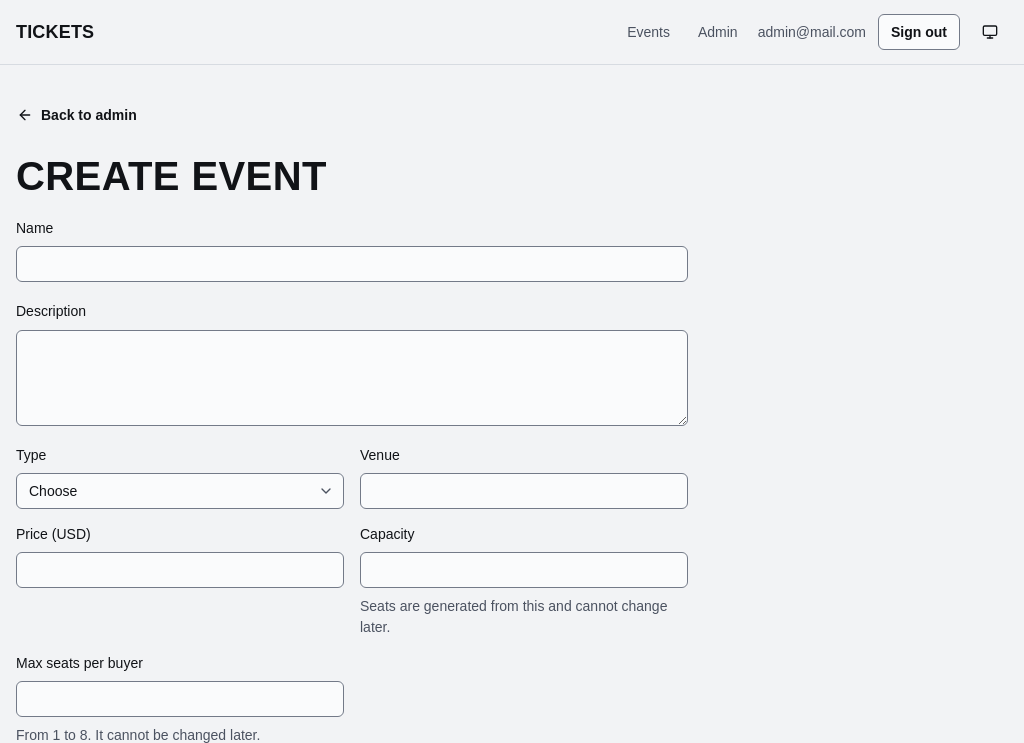
Scenario: CreateEventPage › requires the max seats per buyer
This screenshot has width=1024, height=743.
In the field labelled "Capacity": (524, 570) [360,552,688,588], type "25"
(page scrolled)
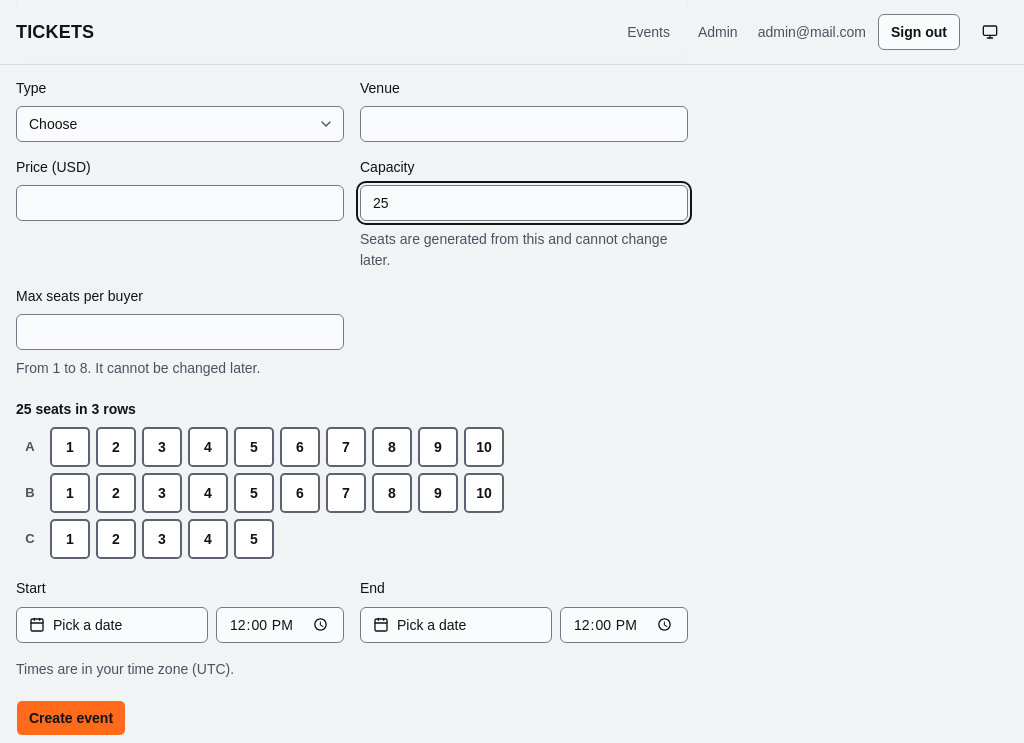
Click the button "Create event": (71, 718) [16,700,126,736]
(page scrolled)
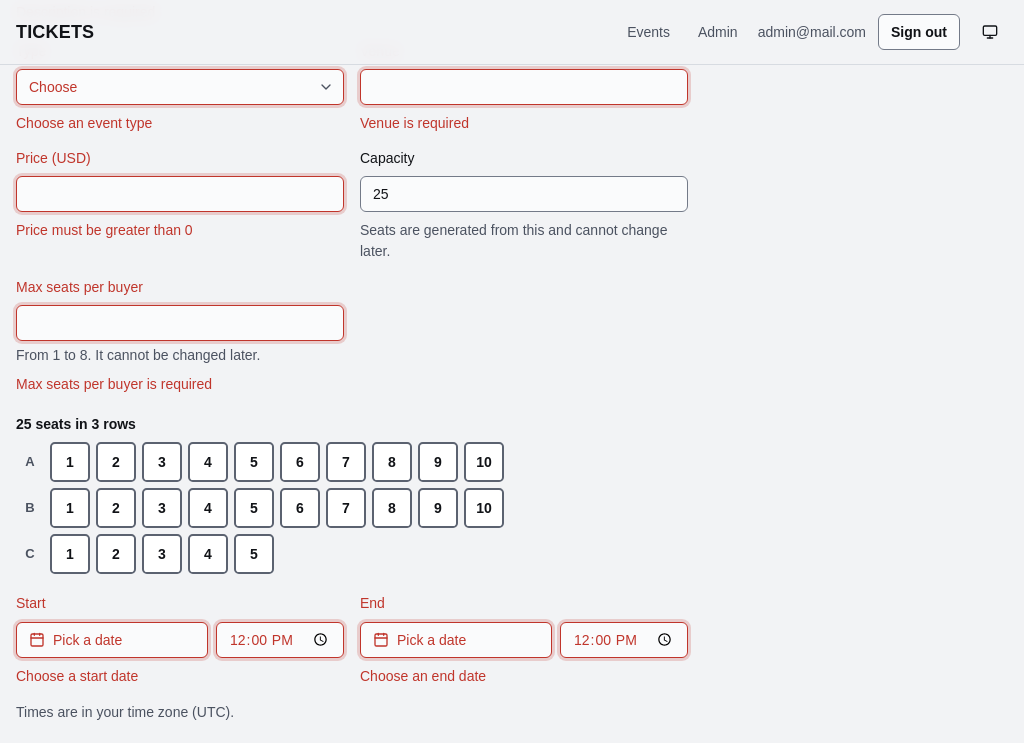
Now the text "Max seats per buyer is required" is shown, box [16,376,212,392]
